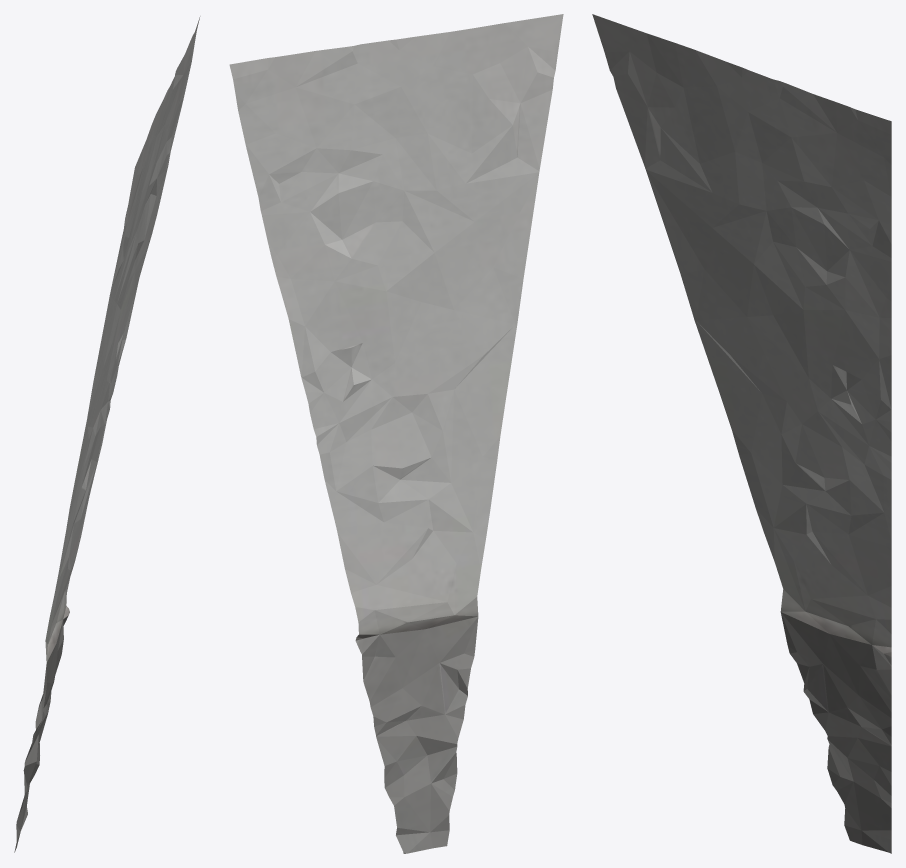
3 renders of one model, left to right at view 1: azimuth 30°, elevation 25°; view 2: azimuth 150°, elevation 25°; view 3: azimuth 270°, elevation 25°, orthographic. The views are drawn at different scales.
Size of the model in its own units: 0.4665 by 1.67 by 0.5501.
Materials: 1 (1 with a texture image).
